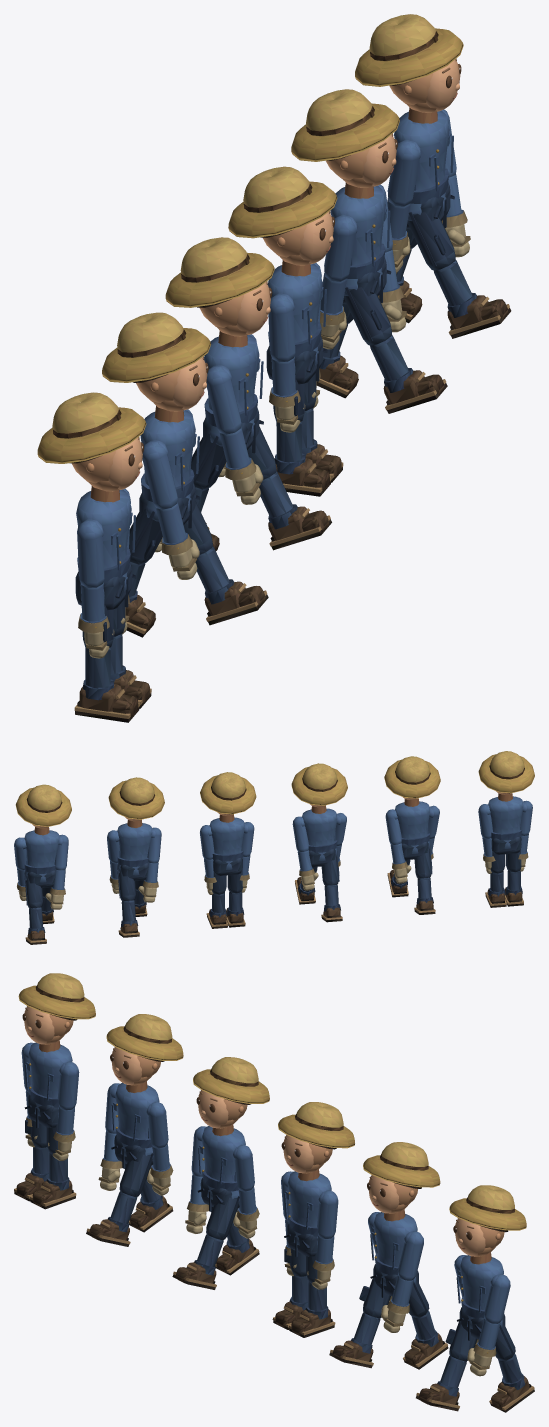
File: audit-hf-player-farmhand-walk-front.glb
3 renders of one model, top to bottom at view 1: azimuth 30°, elevation 25°; view 2: azimuth 150°, elevation 25°; view 3: azimuth 270°, elevation 25°, orthographic. The views are drawn at different scales.
Parts seen in each view (by area): view 1: strawHat (×6), denimJacketTorso (×6), head (×6), rightShin (×5), rightUpperArm (×6), leftShin (×5), rightThigh (×4), rightHandMesh (×4), rightLowerArm (×4), trouserHips (×2); view 2: strawHat (×6), denimJacketTorso (×6), leftShin (×6), rightShin (×6), leftUpperArm (×6), trouserHips (×6), rightUpperArm (×6), rightThigh (×4), leftThigh (×4), rightHandMesh (×2), leftHandMesh (×2), leftLowerArm (×2); view 3: strawHat (×6), denimJacketTorso (×6), leftShin (×6), head (×6), rightShin (×6), leftUpperArm (×6), leftThigh (×4), trouserHips (×4), leftHandMesh (×4), rightThigh (×2), rightHandMesh (×2).
Part boxes in pixels (<box>): strawHat (×6): <box>37,14,463,463</box>; denimJacketTorso (×6): <box>76,107,453,599</box>; head (×6): <box>70,58,461,491</box>; rightShin (×5): <box>74,260,511,722</box>; rightUpperArm (×6): <box>77,139,420,587</box>; leftShin (×5): <box>110,324,358,708</box>; rightThigh (×4): <box>129,212,455,564</box>; rightHandMesh (×4): <box>78,388,305,658</box>; rightLowerArm (×4): <box>80,357,297,627</box>; trouserHips (×2): <box>75,336,327,610</box>; strawHat (×6): <box>15,751,534,826</box>; denimJacketTorso (×6): <box>24,793,523,882</box>; leftShin (×6): <box>25,869,506,944</box>; rightShin (×6): <box>41,870,523,927</box>; leftUpperArm (×6): <box>14,804,492,870</box>; trouserHips (×6): <box>27,836,521,887</box>; rightUpperArm (×6): <box>54,800,532,870</box>; rightThigh (×4): <box>227,844,521,893</box>; leftThigh (×4): <box>24,850,505,908</box>; rightHandMesh (×2): <box>45,880,158,909</box>; leftHandMesh (×2): <box>299,861,411,890</box>; leftLowerArm (×2): <box>297,843,405,871</box>; strawHat (×6): <box>18,973,526,1230</box>; denimJacketTorso (×6): <box>25,1040,503,1330</box>; leftShin (×6): <box>30,1152,534,1412</box>; head (×6): <box>22,1006,508,1256</box>; rightShin (×6): <box>14,1146,466,1411</box>; leftUpperArm (×6): <box>57,1061,510,1323</box>; leftThigh (×4): <box>119,1153,515,1360</box>; trouserHips (×4): <box>24,1094,317,1256</box>; leftHandMesh (×4): <box>147,1165,496,1376</box>; rightThigh (×2): <box>359,1278,477,1361</box>; rightHandMesh (×2): <box>98,1159,208,1233</box>.
Size of what is drawn, in the model's own units: 6.04 by 2.44 by 5.26.
